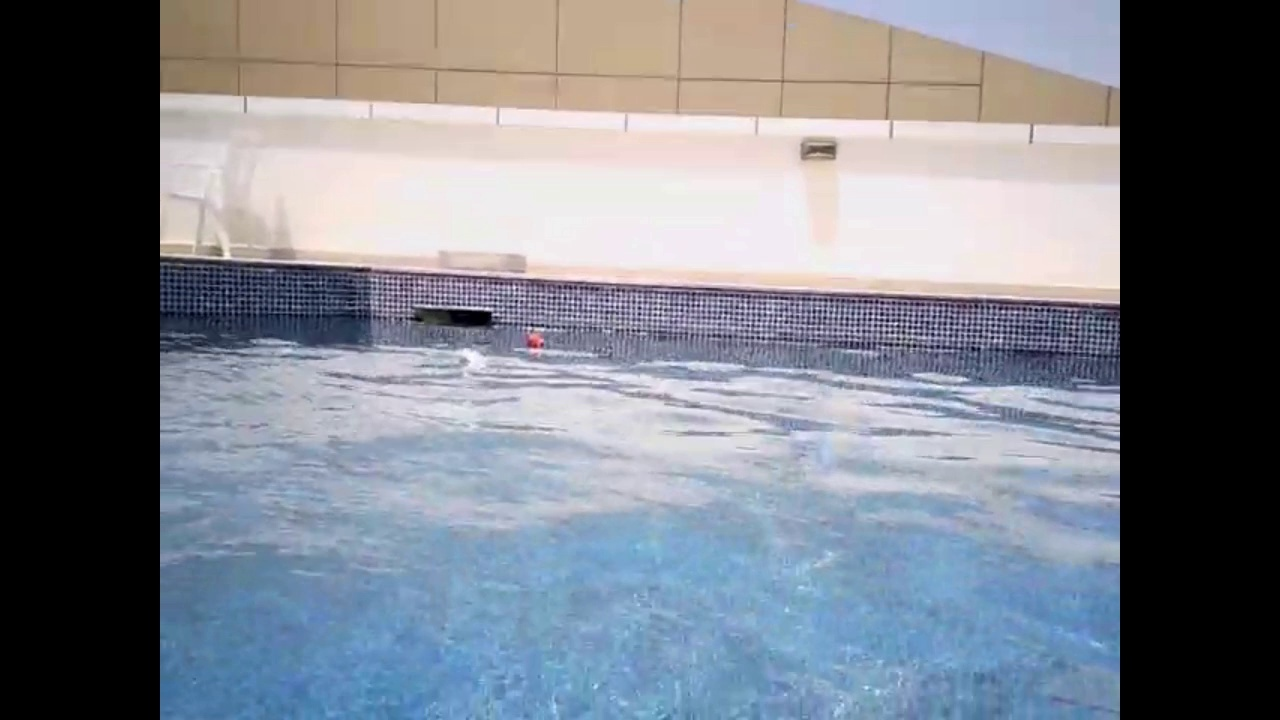debris: (454, 345, 490, 373), (524, 332, 547, 349)
